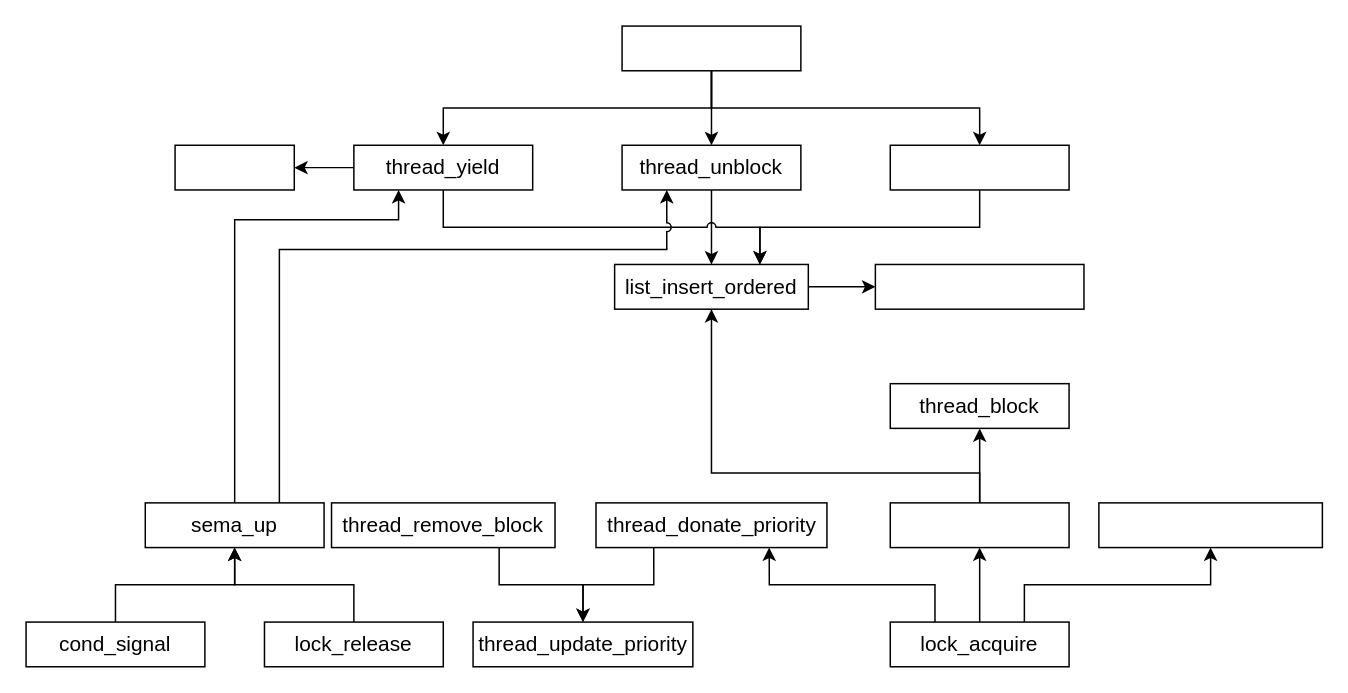
The diagram is 1348 pixels wide and 693 high, and some of its shapes have lost their labels. Each missing label, with the centre of its shape:
"init_thread" goes at [979,167].
"schedule" goes at [234,167].
"sema_down" goes at [979,524].
"thread_cmp_priority" goes at [979,286].
"thread_create" goes at [711,48].
"thread_hold_the_lock" goes at [1209,524].
